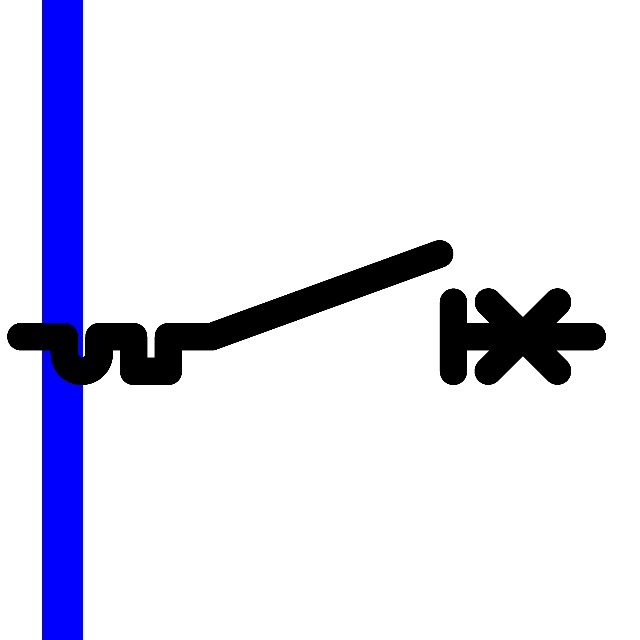interruptor_termomagnetico: (6, 239, 607, 386)
